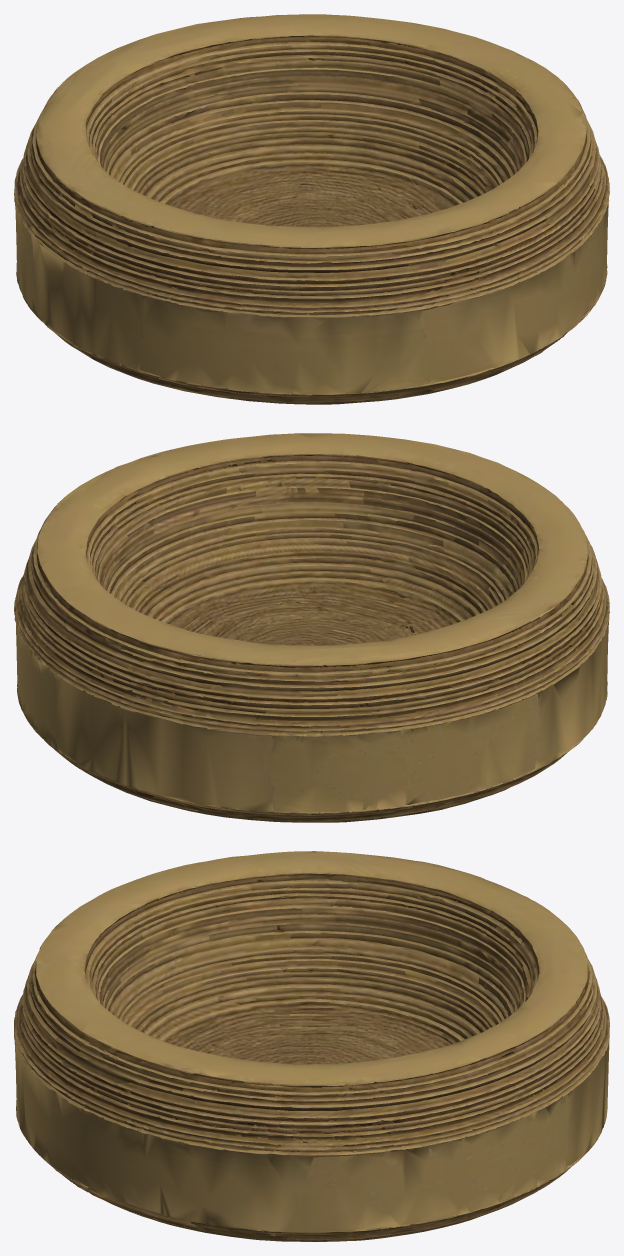
File: calibrated.glb
3 renders of one model, top to bottom at view 1: azimuth 30°, elevation 25°; view 2: azimuth 150°, elevation 25°; view 3: azimuth 270°, elevation 25°, orthographic.
Parts seen in each view (by area): view 1: world; view 2: world; view 3: world.
Boxes of the visible parts, x1,y1,x2,y2 form: world: (14, 14, 609, 404); world: (14, 433, 609, 822); world: (14, 851, 609, 1241).
Bounding box in the file's own units: 0.3949 × 0.12 × 0.395.
1 material, 1 textured.
